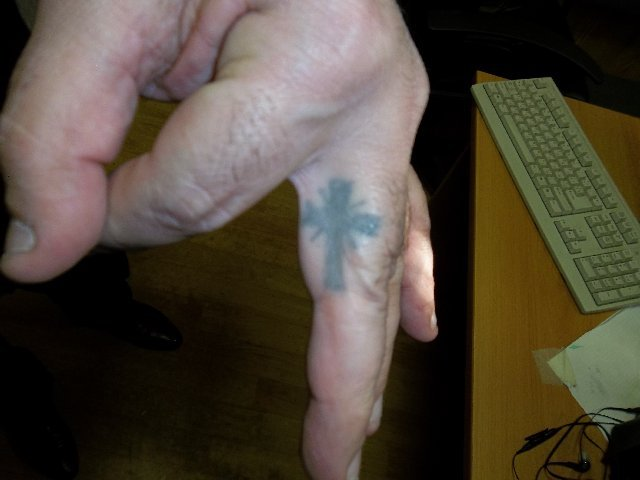tatu9_krest: (301, 172, 387, 298)
